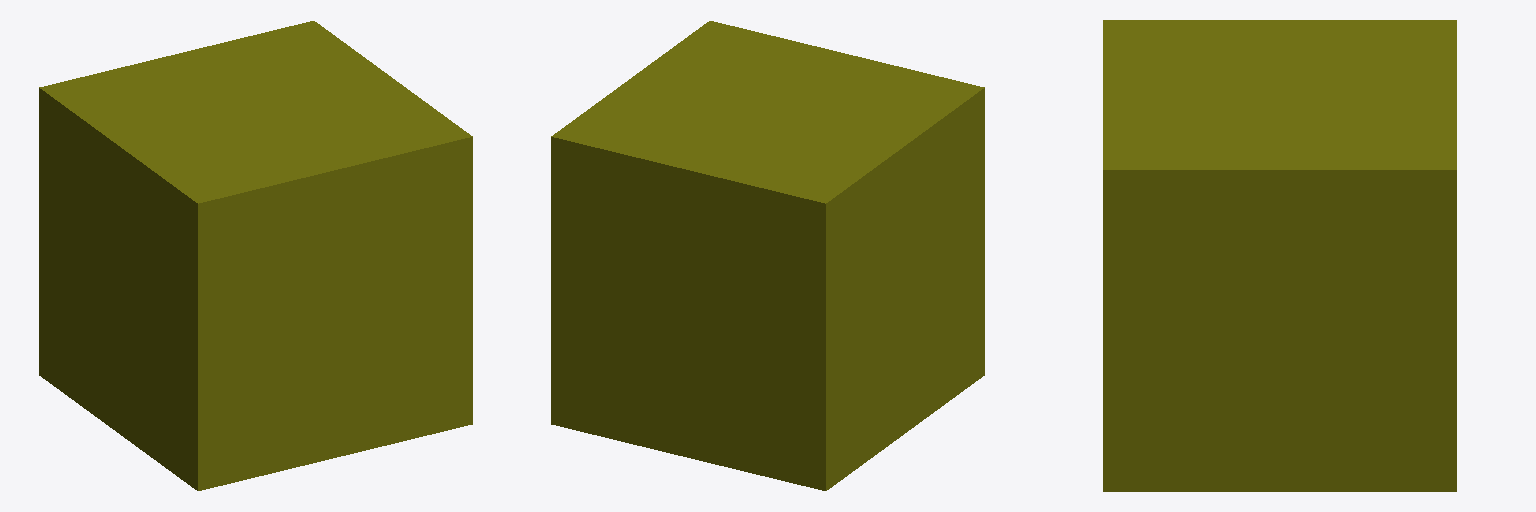
robot.urdf — cube_2_heavy:
<?xml version="1.0" ?>
<robot name="cube_2_heavy">
    <link name="cube_link_2_heavy">
        <inertial>
            <!-- Same CoM offset as cube_2: shifted -17.12 mm along Z -->
            <origin rpy="0 0 0" xyz="0.0 0.0 -0.01712"/>

            <mass value="2.5"/>

            <!-- Inertia scaled from cube_2 (0.5 kg) by factor 5 -->
            <inertia
                ixx="0.00302765"
                ixy="0.0"
                ixz="0.0"
                iyy="0.00302765"
                iyz="0.0"
                izz="0.00376005"/>
        </inertial>

        <visual>
            <origin rpy="0 0 0" xyz="0 0 0"/>
            <geometry>
                <mesh filename="meshes/objects/cube_2.stl"/>
            </geometry>
            <material name="DarkYellow">
                <color rgba="0.5 0.5 0.1 1.0"/>
            </material>
        </visual>

        <collision>
            <origin rpy="0 0 0" xyz="0 0 0"/>
            <geometry>
                <box size="0.092 0.092 0.092"/>
            </geometry>
        </collision>
    </link>
</robot>

--- Facts derived from the render (not from the file) ---
Views: 3 orthographic renders of the robot side by side, from view 1: azimuth 30°, elevation 25°; view 2: azimuth 150°, elevation 25°; view 3: azimuth 270°, elevation 25°.
Robot: cube_2_heavy — 1 links, 0 joints (none); root link cube_link_2_heavy; default pose: every joint at zero.
Links seen in each view (by area): view 1: cube_link_2_heavy; view 2: cube_link_2_heavy; view 3: cube_link_2_heavy.
Link boxes in pixels (left/top/right/bottom): cube_link_2_heavy: left=39, top=21, right=472, bottom=490; cube_link_2_heavy: left=551, top=21, right=984, bottom=490; cube_link_2_heavy: left=1103, top=20, right=1456, bottom=491.
Bounding box of the posed robot: 0.092 × 0.092 × 0.092 m (x, y, z).
Meshes: 1 distinct files referenced, 1 mesh visuals loaded (1 binary STL).
